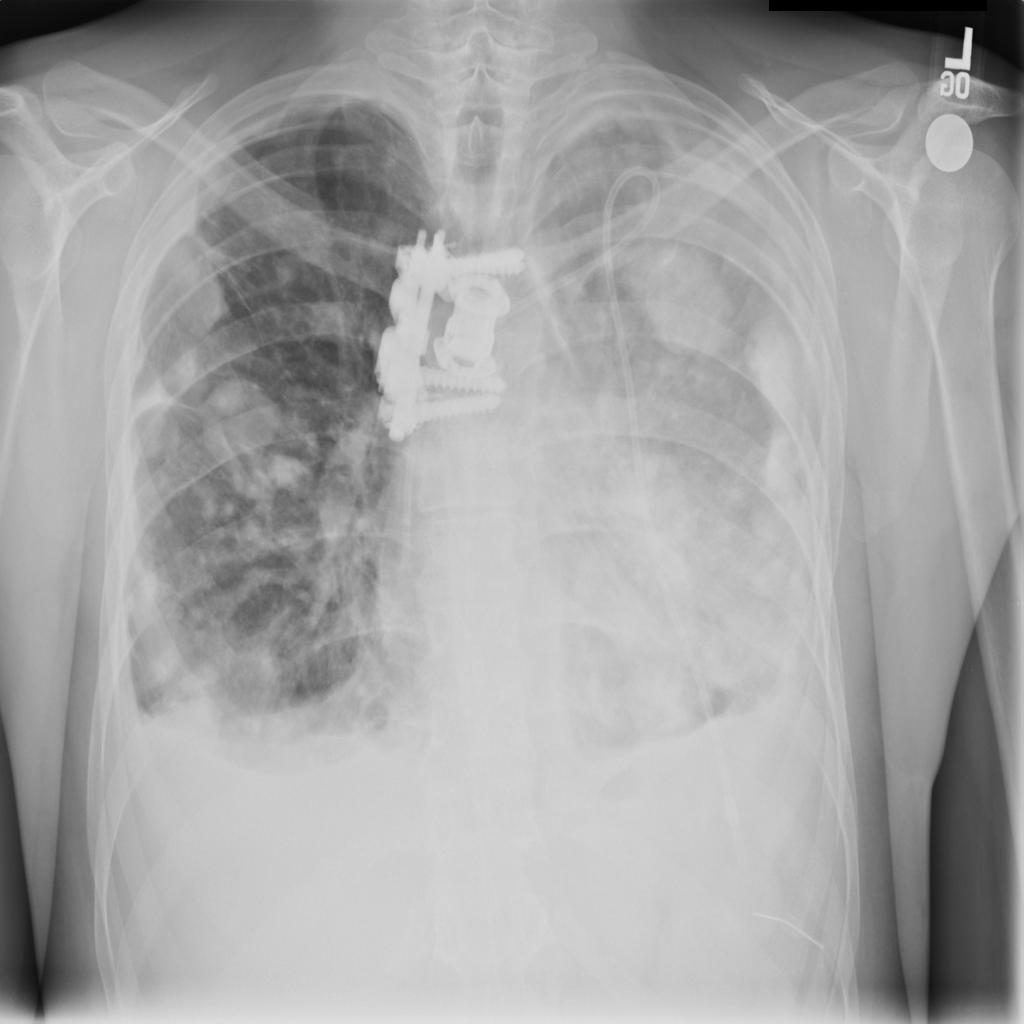nodule: (594, 421, 737, 595), (622, 222, 751, 372), (200, 375, 304, 470), (164, 253, 238, 339), (738, 314, 809, 400), (753, 415, 813, 501), (200, 357, 267, 434), (129, 385, 190, 469), (296, 284, 368, 355), (744, 488, 790, 548), (265, 444, 316, 495), (166, 339, 213, 393), (261, 246, 308, 298)
